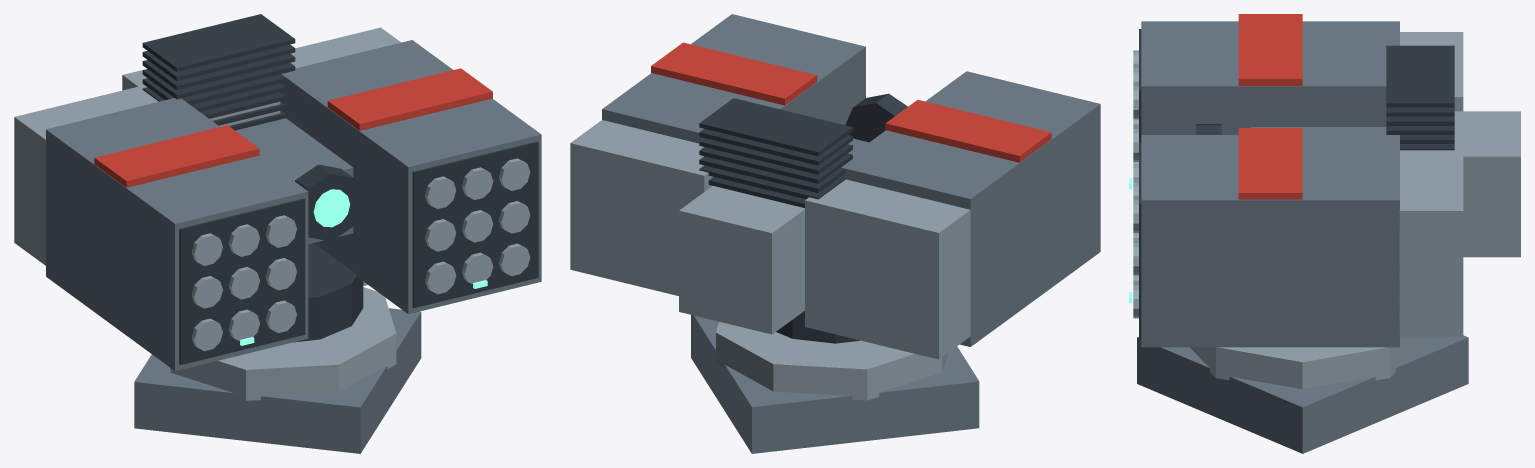
The model's file is quiver_t3.glb.
The picture shows the model from 3 angles, left to right: view 1: azimuth 30°, elevation 25°; view 2: azimuth 150°, elevation 25°; view 3: azimuth 270°, elevation 25°; orthographic projection.
Visible parts, largest first — view 1: Launch pod (×2), Recessed tube panel (×2), Foundation, Capped missile cell (×18), Rear radiator (×7), Pod identification (×2), Base upper armor, Reload magazine (×2), Yaw bearing, Receiver, Tracking sensor, Sensor glass (+1 smaller); view 2: Launch pod (×2), Reload magazine (×2), Foundation, Rear equipment, Rear radiator (×7), Pod identification (×2), Base upper armor, Tracking sensor, Yaw bearing; view 3: Launch pod (×2), Foundation, Reload magazine (×2), Pod identification (×2), Rear equipment, Base upper armor, Rear radiator (×5), Receiver, Recessed tube panel.
Boxes of the visible parts, x1,y1,x2,y2 form: Launch pod (×2): [46, 40, 541, 370]; Recessed tube panel (×2): [179, 141, 538, 365]; Foundation: [134, 308, 421, 453]; Capped missile cell (×18): [191, 158, 530, 351]; Rear radiator (×7): [142, 14, 295, 118]; Pod identification (×2): [94, 68, 492, 187]; Base upper armor: [169, 287, 396, 400]; Reload magazine (×2): [14, 27, 400, 265]; Yaw bearing: [294, 243, 363, 342]; Receiver: [235, 118, 353, 244]; Tracking sensor: [295, 164, 363, 241]; Sensor glass: [313, 189, 350, 227]; Launch pod (×2): [602, 14, 1100, 346]; Reload magazine (×2): [570, 120, 970, 359]; Foundation: [691, 315, 979, 453]; Rear equipment: [679, 186, 804, 334]; Rear radiator (×7): [699, 98, 852, 207]; Pod identification (×2): [651, 42, 1051, 162]; Base upper armor: [716, 322, 947, 400]; Tracking sensor: [845, 93, 907, 142]; Yaw bearing: [776, 311, 859, 343]; Launch pod (×2): [1141, 21, 1399, 347]; Foundation: [1137, 335, 1468, 453]; Reload magazine (×2): [1399, 32, 1463, 336]; Pod identification (×2): [1238, 14, 1302, 199]; Rear equipment: [1454, 111, 1520, 257]; Base upper armor: [1190, 336, 1425, 389]; Rear radiator (×5): [1386, 45, 1454, 143]; Receiver: [1251, 127, 1386, 134]; Recessed tube panel: [1139, 143, 1141, 339].
Bounding box in the file's own units: 1.98 × 1.6 × 1.83.
